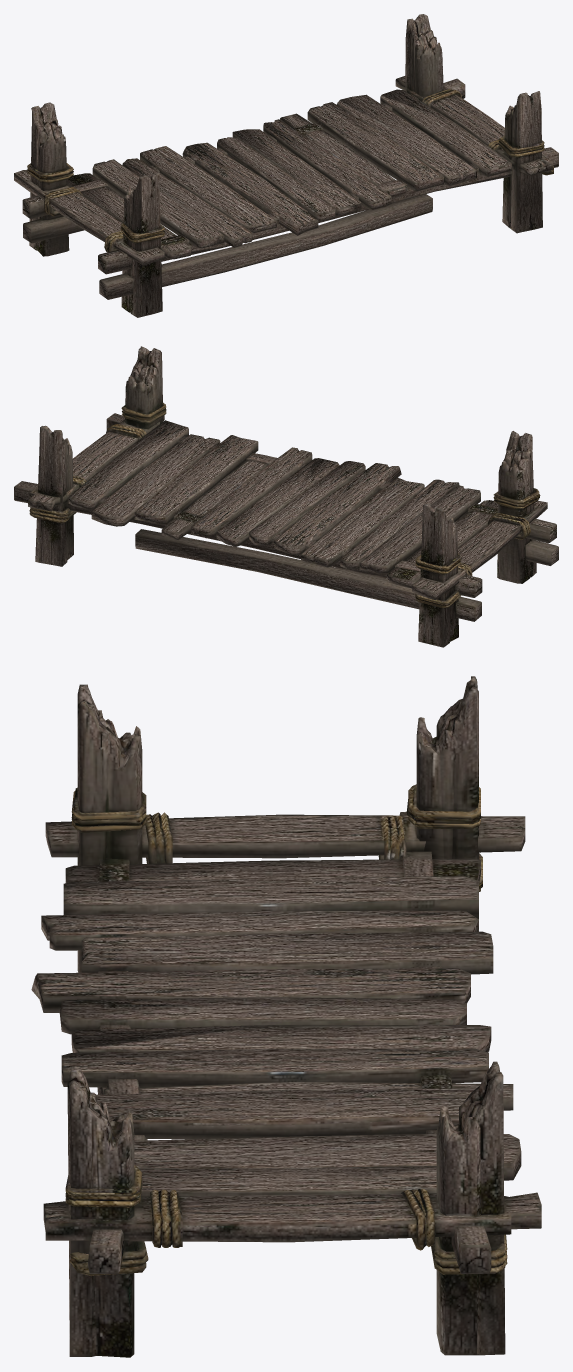
Rendered from tripo_convert_b77d3e6e-3f89-4b56-89b5-8d581946aa57.fbx.
3 views of the same model, one above another, from view 1: azimuth 30°, elevation 25°; view 2: azimuth 150°, elevation 25°; view 3: azimuth 270°, elevation 25° (orthographic). The views are drawn at different scales.
Visible parts, largest first — view 1: tripo_node_b77d3e6e; view 2: tripo_node_b77d3e6e; view 3: tripo_node_b77d3e6e.
Part boxes in pixels (x1,y1,x2,y2): tripo_node_b77d3e6e: (14, 14, 558, 317); tripo_node_b77d3e6e: (14, 346, 558, 647); tripo_node_b77d3e6e: (31, 676, 541, 1357).
Size of the model in its own units: 0.998 by 0.3105 by 0.4941.
1 material, 1 textured.
